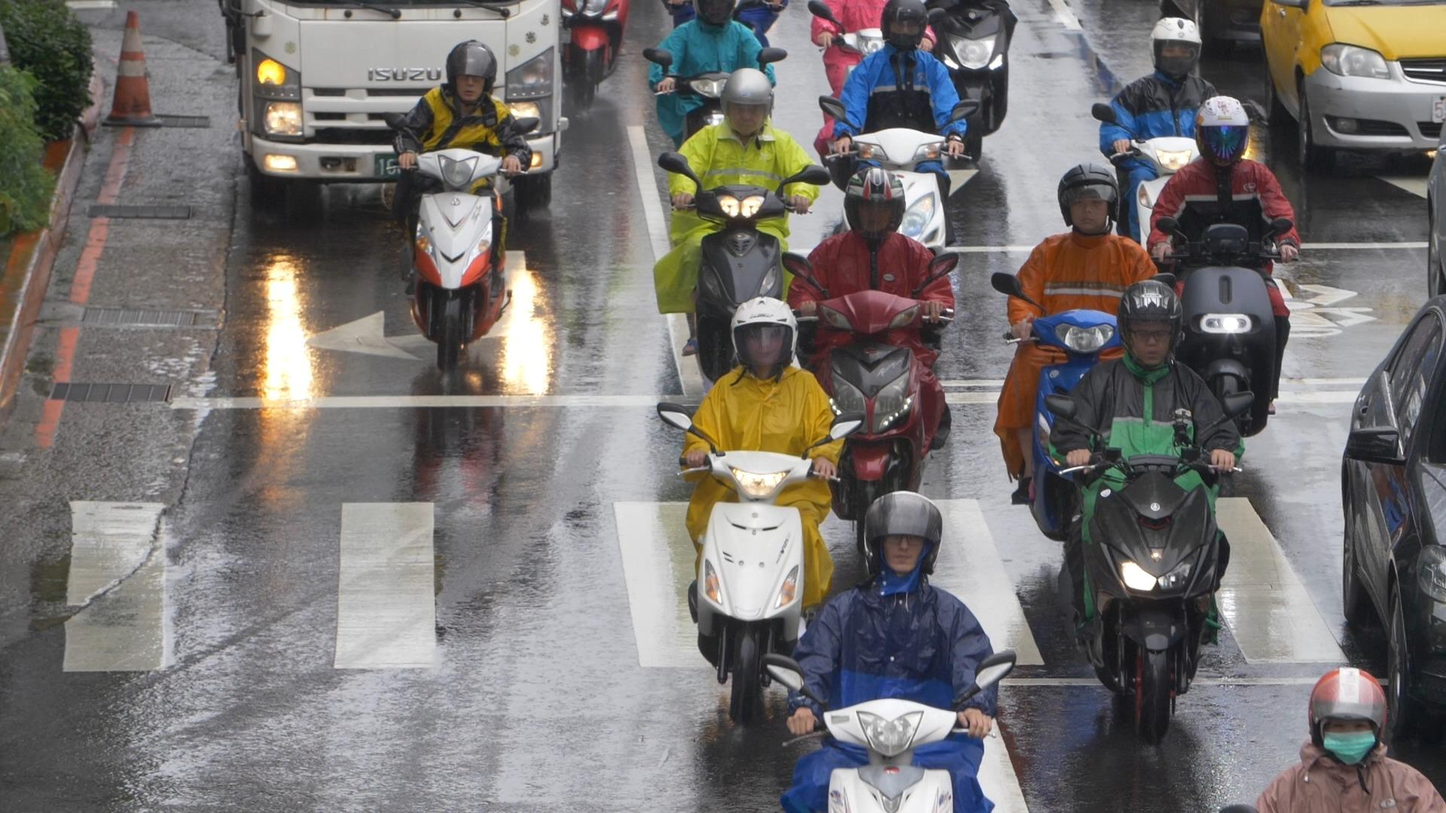driver: (1043, 280, 1255, 742), (658, 299, 865, 728), (760, 488, 1015, 813), (780, 165, 960, 551), (992, 161, 1159, 506), (652, 68, 832, 382), (1147, 94, 1302, 437), (383, 38, 539, 372), (816, 0, 980, 252), (1092, 14, 1217, 254), (644, 0, 787, 152)
helmet: (1307, 668, 1388, 796), (863, 490, 942, 578), (1116, 280, 1185, 374), (729, 297, 798, 387), (843, 167, 906, 244), (1059, 163, 1121, 237), (720, 68, 774, 150), (1196, 96, 1251, 170), (1149, 16, 1203, 84), (446, 40, 497, 107), (881, 0, 928, 50), (692, 0, 738, 28)
